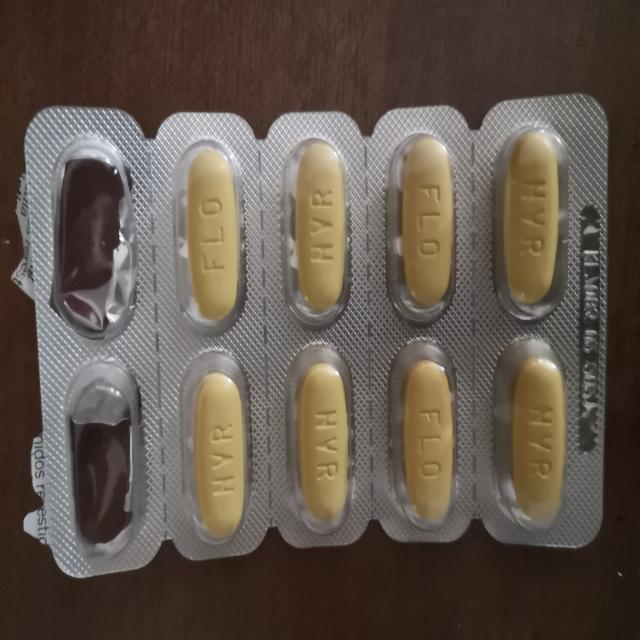Empty: (39, 133, 142, 344), (54, 352, 144, 564)
Pill: (164, 134, 251, 329), (174, 343, 258, 544), (490, 332, 570, 536), (383, 336, 465, 529), (384, 126, 462, 326), (280, 338, 356, 538), (492, 122, 564, 324), (278, 134, 352, 328)
